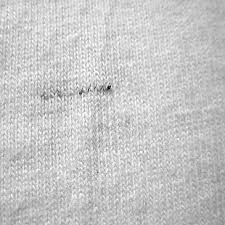Hole: (36, 52, 130, 117)
